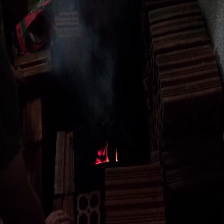smoke: (57, 32, 103, 89)
